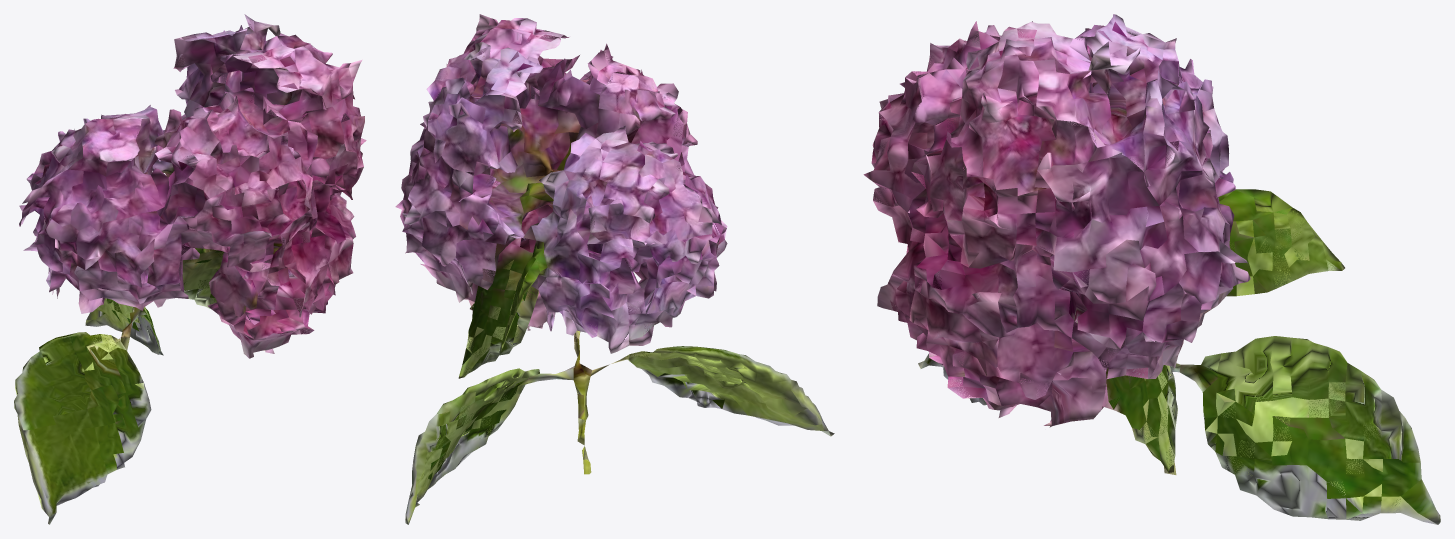
3 renders of one model, left to right at view 1: azimuth 30°, elevation 25°; view 2: azimuth 150°, elevation 25°; view 3: azimuth 270°, elevation 25°, orthographic. The views are drawn at different scales.
Parts seen in each view (by area): view 1: fed5612d; view 2: fed5612d; view 3: fed5612d.
Part boxes in pixels (box(x1,y1,x2,y2)): fed5612d: box(14, 14, 366, 524); fed5612d: box(395, 14, 834, 524); fed5612d: box(863, 14, 1440, 524).
Bounding box in the file's own units: 0.1586 × 0.1643 × 0.1676.
Materials: 1 (1 with a texture image).
